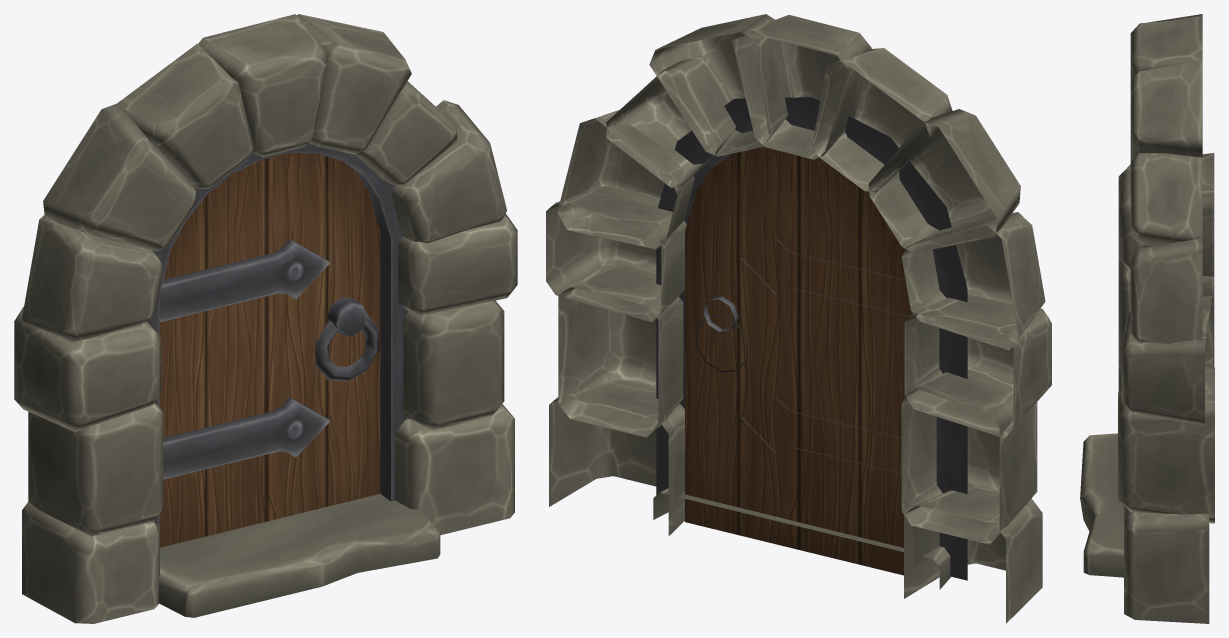
File: Dungeon_Passage1.fbx
The picture shows the model from 3 angles, left to right: view 1: azimuth 30°, elevation 25°; view 2: azimuth 150°, elevation 25°; view 3: azimuth 270°, elevation 25°; orthographic projection. The views are drawn at different scales.
Visible parts, largest first — view 1: Dungeon_passage_polySurface20; view 2: Dungeon_passage_polySurface20; view 3: Dungeon_passage_polySurface20.
Boxes of the visible parts, x1=… form: Dungeon_passage_polySurface20: x1=14, y1=14, x2=517, y2=623; Dungeon_passage_polySurface20: x1=546, y1=14, x2=1051, y2=623; Dungeon_passage_polySurface20: x1=1080, y1=14, x2=1214, y2=623.
Size of the model in its own units: 167 by 176 by 44.61.
Materials: 1 (1 with a texture image).
